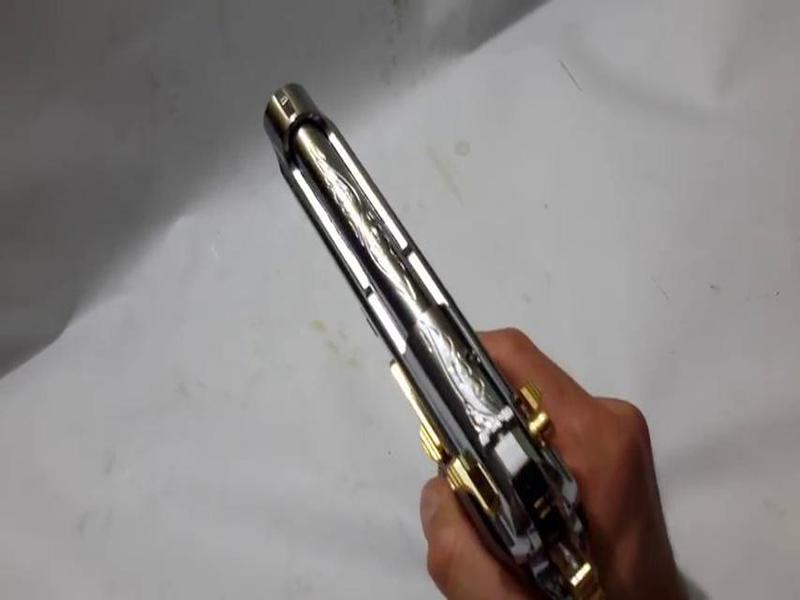Pistola: (237, 54, 644, 582)
